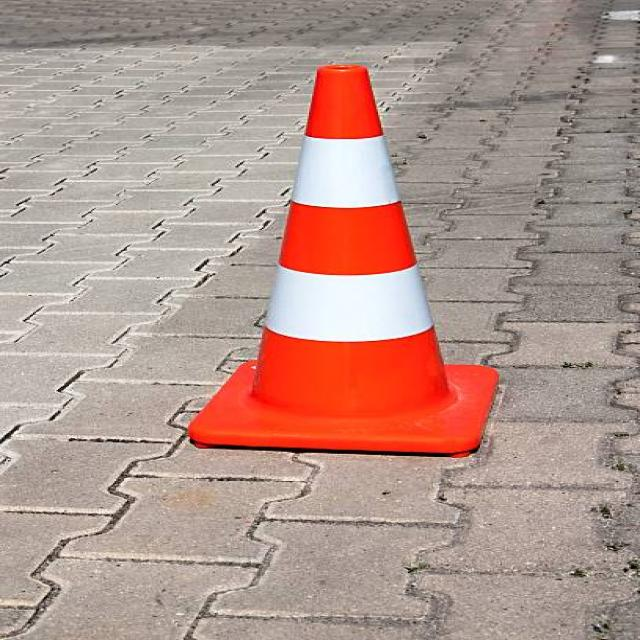Traffic Cone: (152, 35, 536, 483)
